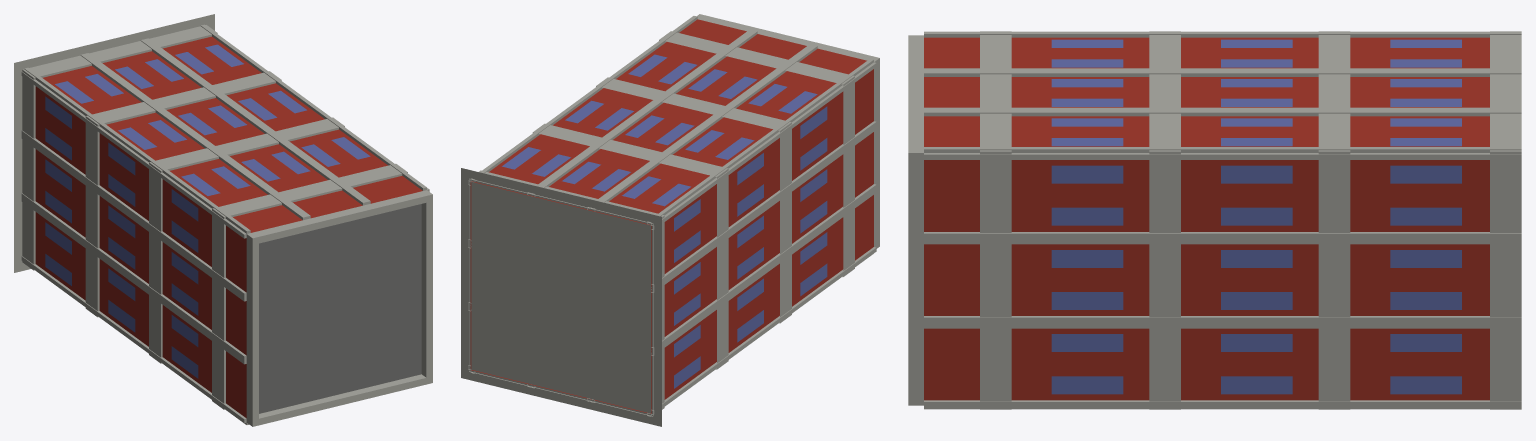
File: complete.glb
3 views of the same model, side by side, from view 1: azimuth 30°, elevation 25°; view 2: azimuth 150°, elevation 25°; view 3: azimuth 270°, elevation 25° (orthographic). The views are drawn at different scales.
Visible parts, largest first — view 1: complete; view 2: complete; view 3: complete.
Boxes of the visible parts, x1,y1,x2,y2 form: complete: (14, 14, 432, 426); complete: (461, 14, 879, 426); complete: (908, 31, 1521, 409).
Bounding box in the file's own units: 15.6 × 15.6 × 30.8.
